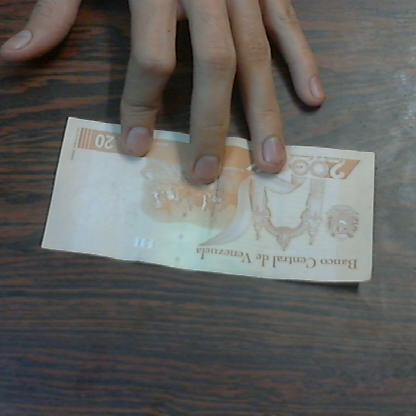twenty-back-vef: (38, 116, 374, 283)
